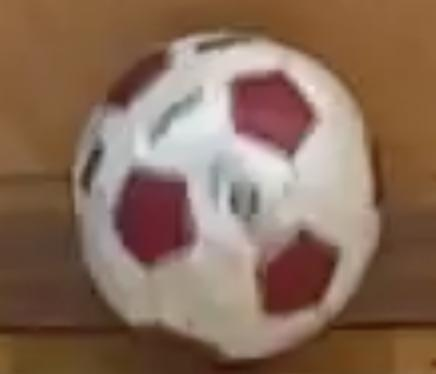Sports-Ball: (68, 20, 397, 368)
